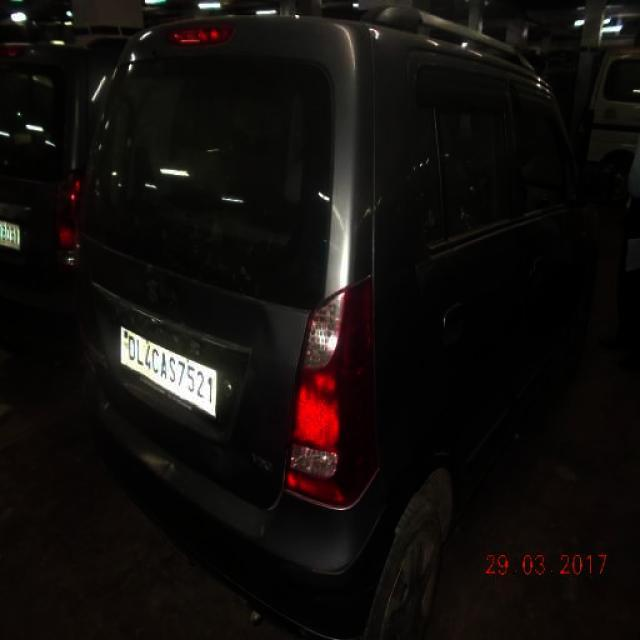car damage: (139, 451, 181, 517), (237, 302, 279, 358), (206, 436, 255, 484)
